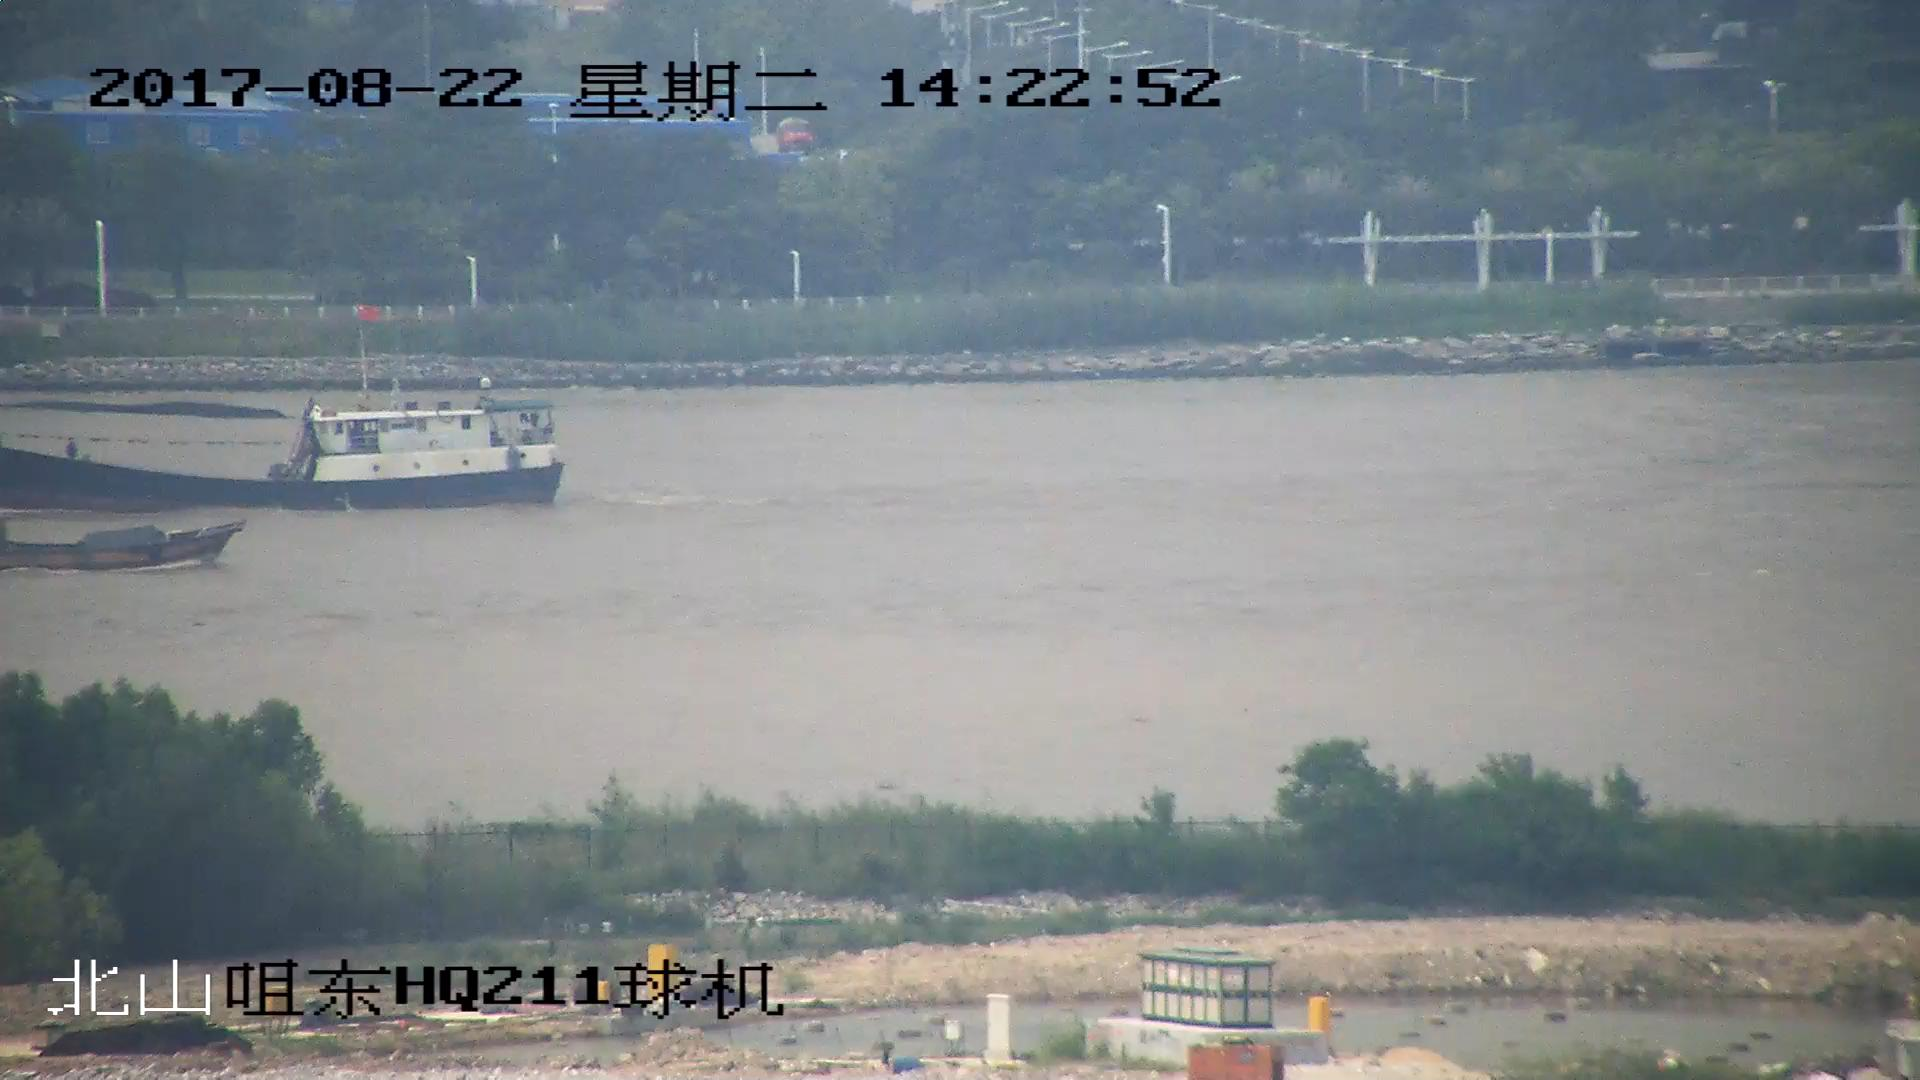fishing boat: (1, 303, 574, 507), (1, 522, 248, 570)
